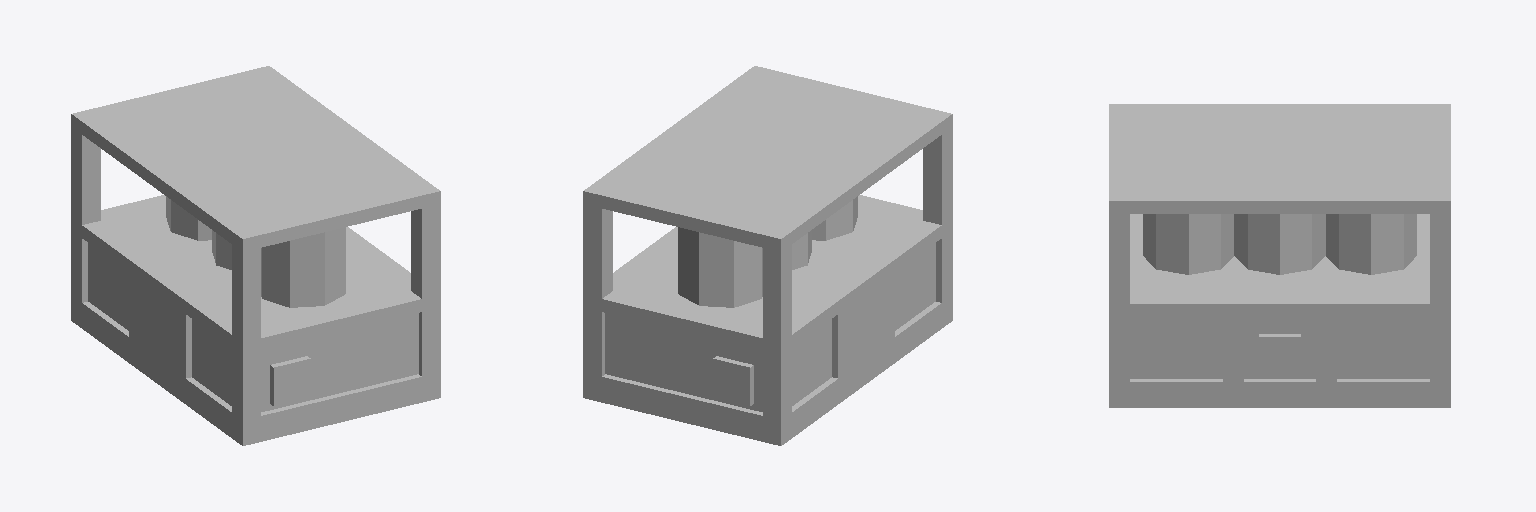
File: crystalliser.obj
The picture shows the model from 3 angles: view 1: azimuth 30°, elevation 25°; view 2: azimuth 150°, elevation 25°; view 3: azimuth 270°, elevation 25°; orthographic projection.
Parts seen in each view (by area): view 1: Hull; view 2: Hull; view 3: Hull.
Boxes of the visible parts, x1,y1,x2,y2 form: Hull: [71, 66, 440, 445]; Hull: [583, 66, 952, 445]; Hull: [1109, 104, 1450, 407].
Bounding box in the file's own units: 2 × 2 × 3.